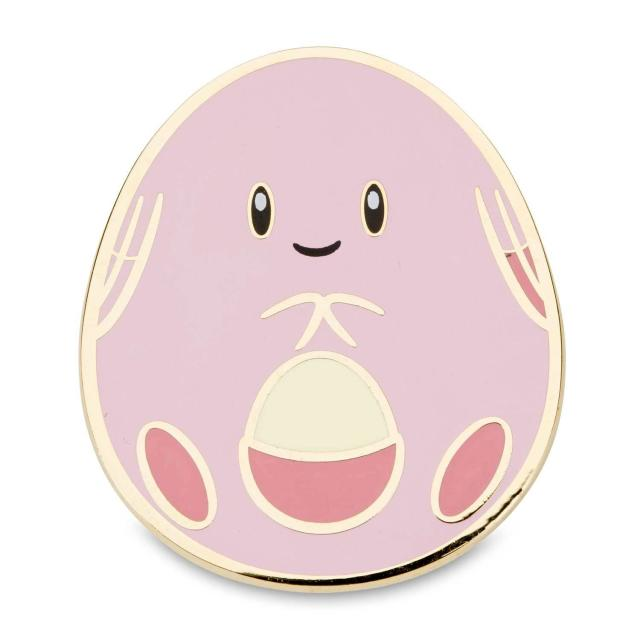Chansey: (70, 43, 586, 588)
